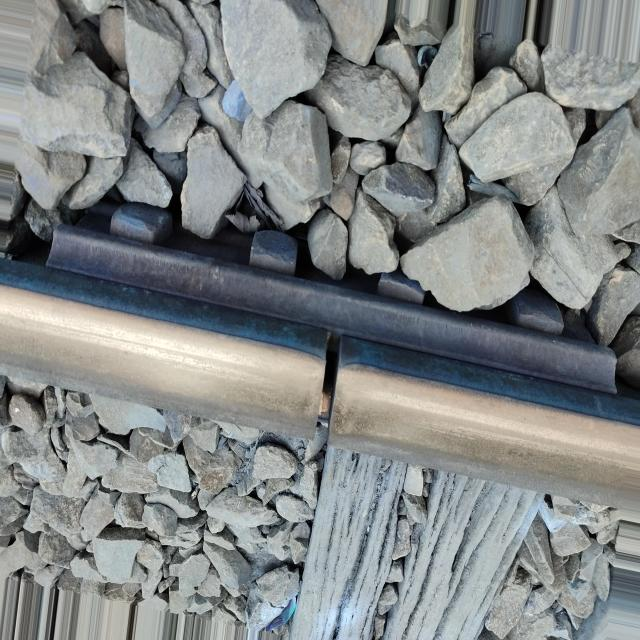crack: (308, 306, 357, 446)
